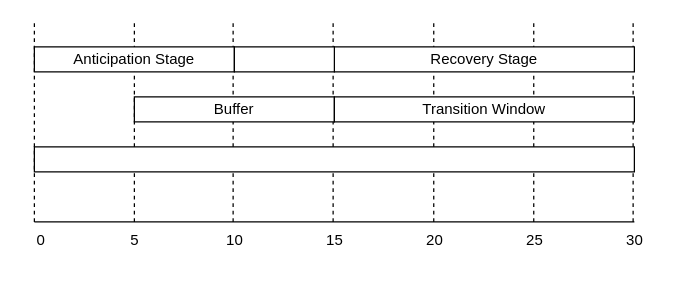
Image size: 680x281. Some labels were removed from this diagram. Each missing label, with the centre of its shape:
"Block Window" goes at [333,159].
"Strike Stage" goes at [283,59].
